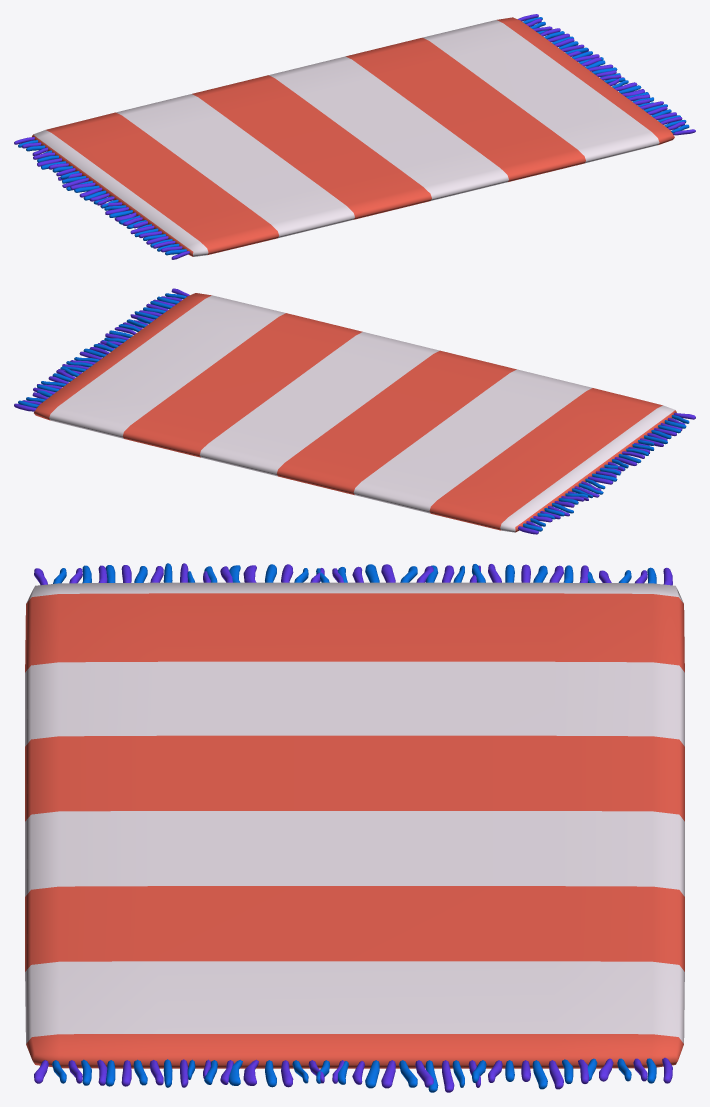
Rendered from matto.fbx.
The picture shows the model from 3 angles, top to bottom: view 1: azimuth 30°, elevation 25°; view 2: azimuth 150°, elevation 25°; view 3: azimuth 270°, elevation 25°; orthographic projection. The views are drawn at different scales.
Parts seen in each view (by area): view 1: matto, naru1, naru2; view 2: matto, naru2, naru1; view 3: matto, naru1, naru2.
Part boxes in pixels (x1,y1,x2,y2): matto: (32,17,674,256); naru1: (14,14,695,259); naru2: (18,17,689,255); matto: (34,293,676,532); naru2: (18,293,689,531); naru1: (14,288,695,534); matto: (25,582,684,1068); naru1: (34,563,672,1092); naru2: (52,563,656,1092).
Size of the model in its own units: 297 by 5.81 by 158.
